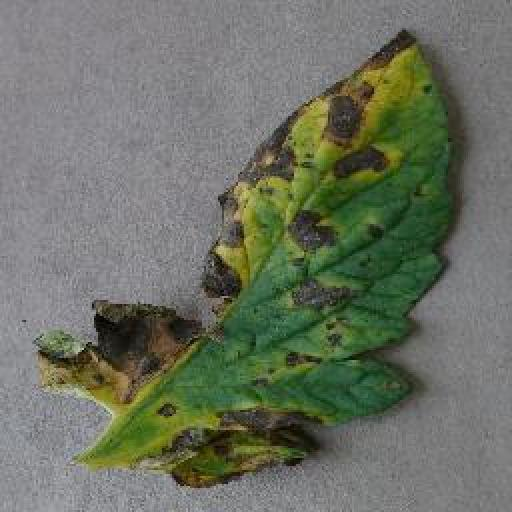disease_tomato: (36, 30, 456, 488)
